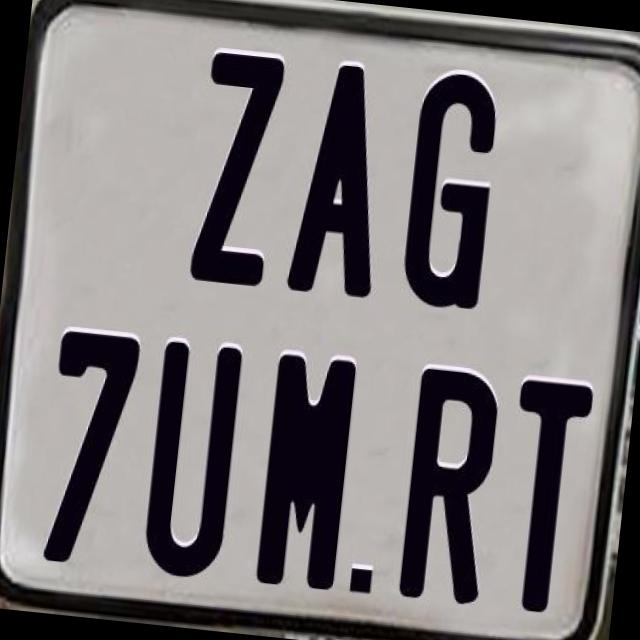7: (38, 326, 148, 566)
A: (281, 58, 396, 304)
G: (399, 70, 508, 319)
M: (254, 351, 356, 591)
R: (396, 363, 502, 610)
T: (498, 374, 600, 610)
U: (140, 339, 249, 588)
Z: (184, 49, 281, 294)
